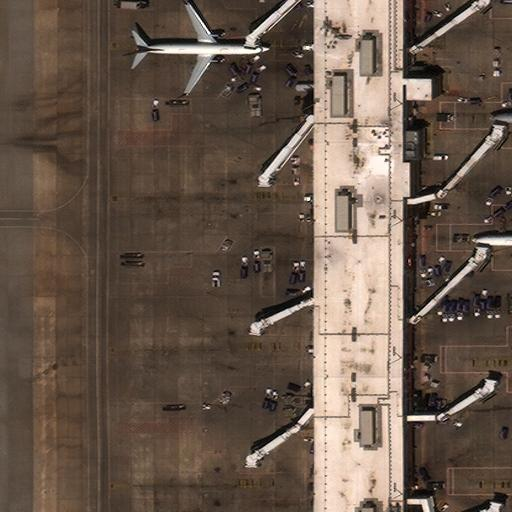Medium Civil Transport: (133, 1, 271, 95), (471, 216, 511, 263)
